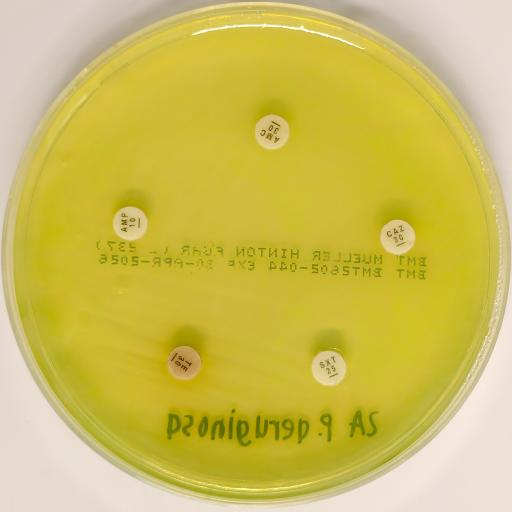disc: (254, 114, 290, 150), (380, 219, 416, 255), (311, 350, 347, 386), (112, 206, 148, 242), (167, 345, 202, 381)
